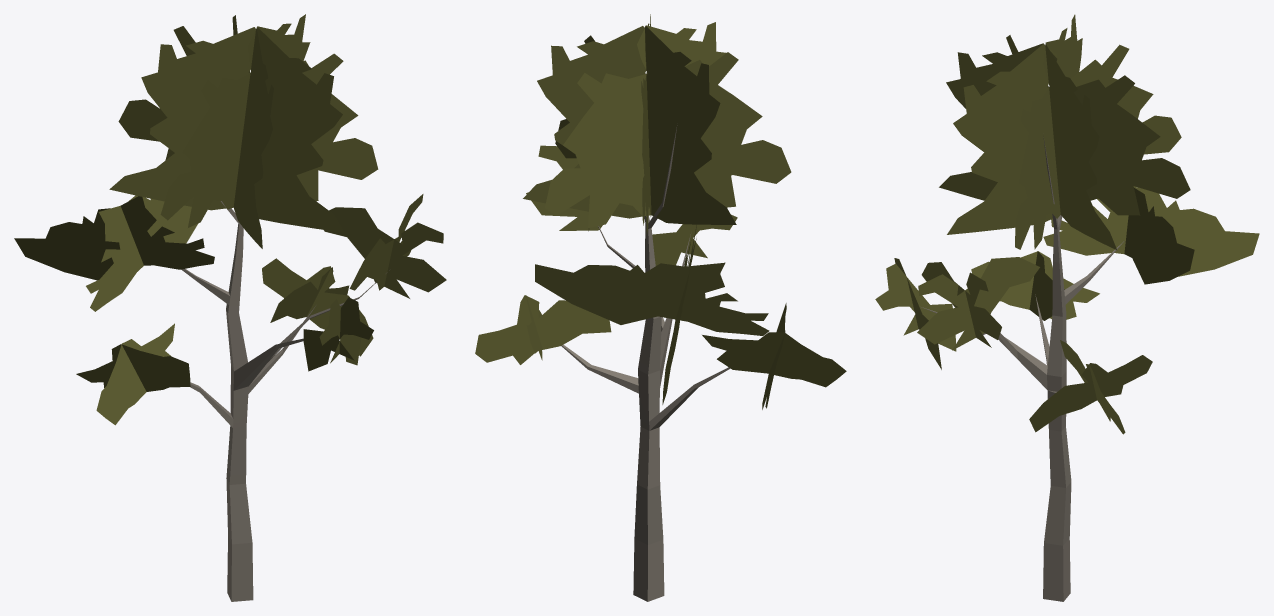
File: Tree17.fbx
3 views of the same model, side by side, from view 1: azimuth 30°, elevation 25°; view 2: azimuth 150°, elevation 25°; view 3: azimuth 270°, elevation 25° (orthographic). The views are drawn at different scales.
Visible parts, largest first — view 1: Flat_half_tree.017; view 2: Flat_half_tree.017; view 3: Flat_half_tree.017.
Boxes of the visible parts, x1,y1,x2,y2 form: Flat_half_tree.017: (14,14,446,601); Flat_half_tree.017: (475,14,846,601); Flat_half_tree.017: (875,14,1259,601).
Size of the model in its own units: 2.13 by 3.58 by 2.24.
